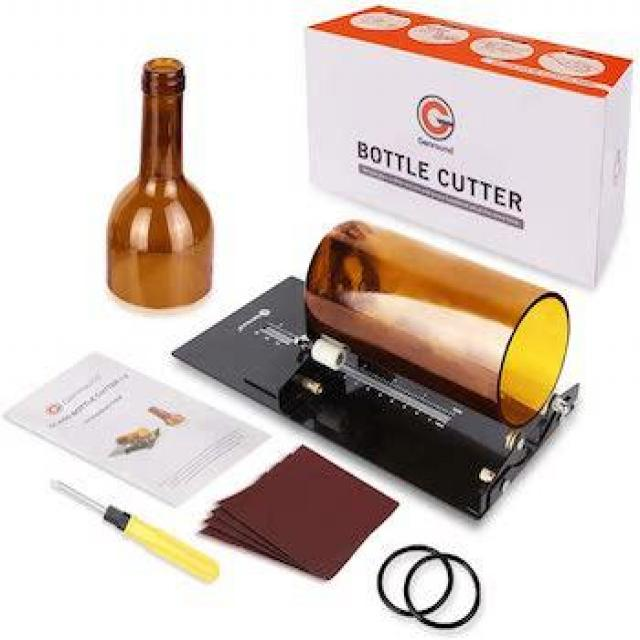non-organic waste: (102, 51, 216, 314)
